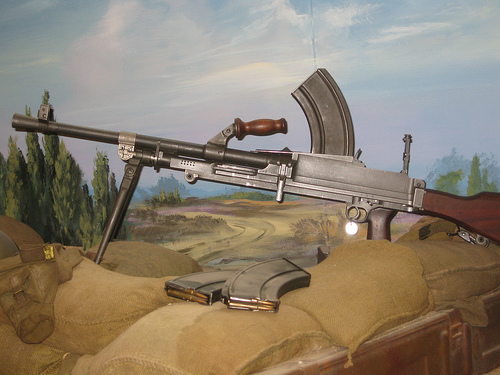rifle: (23, 89, 493, 271)
